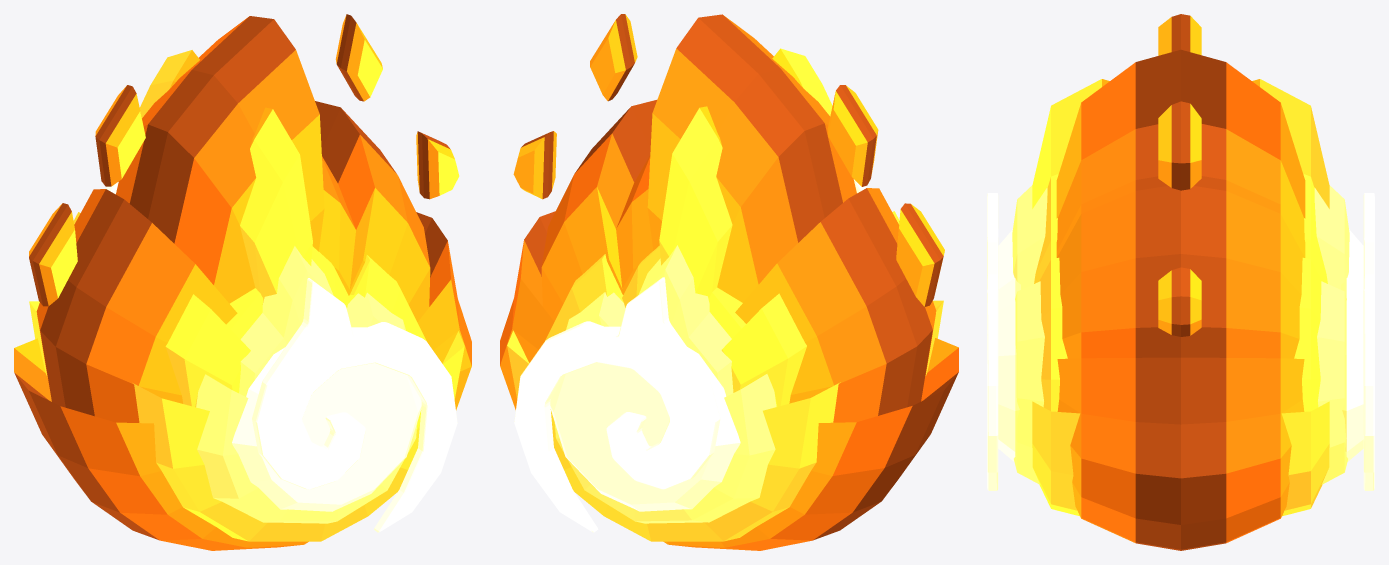
The model's file is Fireball.glb.
3 views of the same model, side by side, from view 1: azimuth 30°, elevation 25°; view 2: azimuth 150°, elevation 25°; view 3: azimuth 270°, elevation 25° (orthographic). The views are drawn at different scales.
Visible parts, largest first — view 1: Fireball; view 2: Fireball; view 3: Fireball.
Boxes of the visible parts, <box> form: Fireball: <box>14,14,471,550</box>; Fireball: <box>500,14,958,550</box>; Fireball: <box>987,14,1374,550</box>.
Size of the model in its own units: 0.2575 by 0.295 by 0.206.
